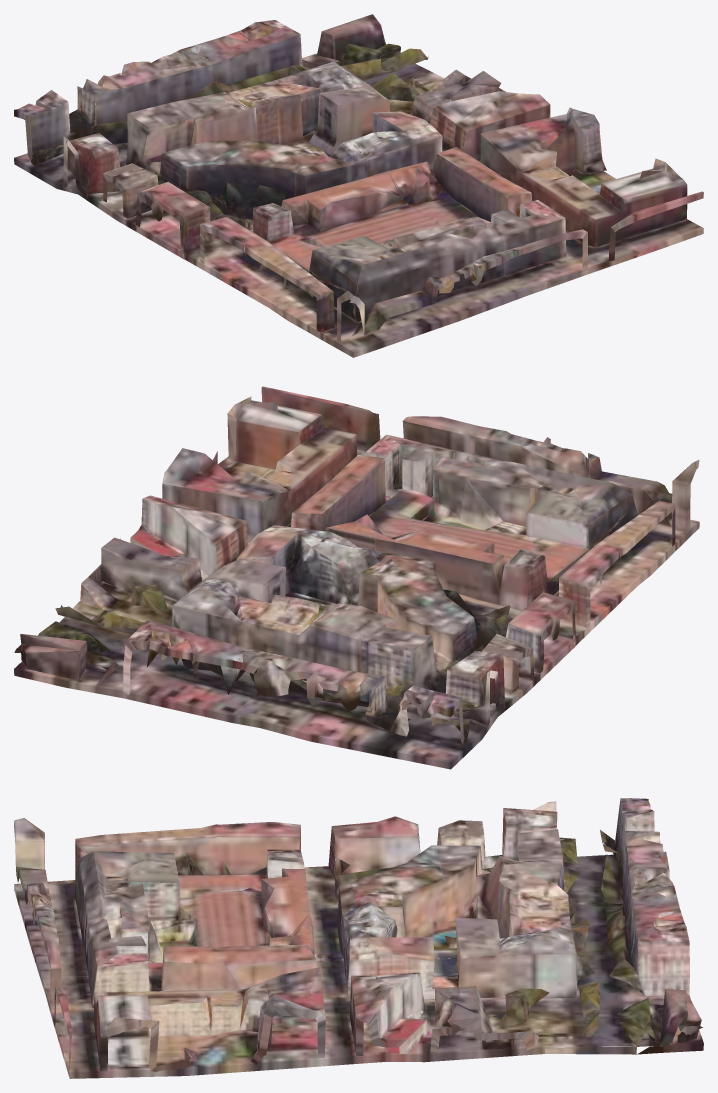
3 renders of one model, top to bottom at view 1: azimuth 30°, elevation 25°; view 2: azimuth 150°, elevation 25°; view 3: azimuth 270°, elevation 25°, orthographic. The views are drawn at different scales.
Visible parts, largest first — view 1: Mesh_0; view 2: Mesh_0; view 3: Mesh_0.
Part boxes in pixels (<box>): Mesh_0: <box>14,14,703,357</box>; Mesh_0: <box>14,386,699,769</box>; Mesh_0: <box>14,798,703,1078</box>.
Size of the model in its own units: 266 by 42.16 by 330.
2 materials, 2 textured.
